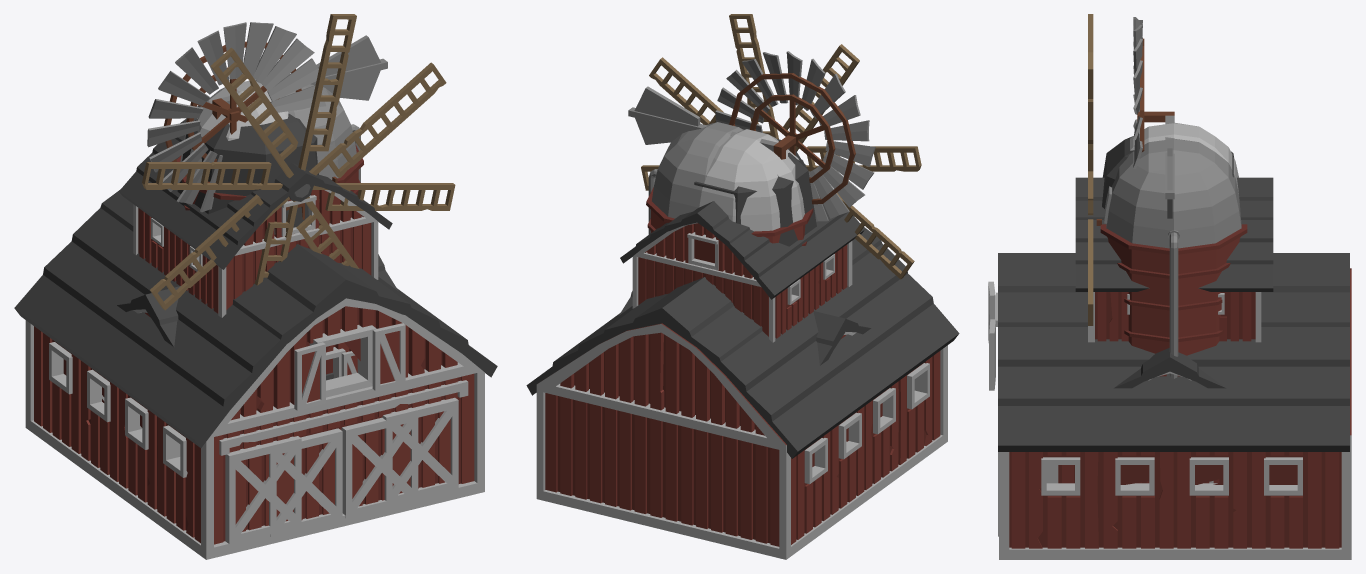
The model's file is farm.glb.
3 renders of one model, left to right at view 1: azimuth 30°, elevation 25°; view 2: azimuth 150°, elevation 25°; view 3: azimuth 270°, elevation 25°, orthographic. The views are drawn at different scales.
Parts seen in each view (by area): view 1: farm_Barn~White, farm_BigBarn~RoofBlack, farm_Barn~RoofBlack, farm_Barn~LightRed, farm_BigBarn~White, farm_TowerWindmill~LightBrown, farm_BigBarn~LightRed, farm_Windmill~Grey, farm_TowerWindmill~RoofBlack, farm_BigBarn~DarkRed, farm_Barn~DarkRed, farm_Silo_House~Grey (+4 smaller); view 2: farm_BigBarn~LightRed, farm_BigBarn~RoofBlack, farm_Barn~RoofBlack, farm_Barn~White, farm_BigBarn~White, farm_Windmill~Grey, farm_Barn~LightRed, farm_BigBarn~DarkRed, farm_TowerWindmill~LightBrown, farm_Silo~White, farm_Silo_House~Grey, farm_Windmill~Brown (+3 smaller); view 3: farm_Barn~RoofBlack, farm_Barn~LightRed, farm_BigBarn~RoofBlack, farm_Silo_House~Grey, farm_Barn~White, farm_Barn~DarkRed, farm_BigBarn~LightRed, farm_Silo_House~LightRed, farm_Silo_House~DarkRed, farm_Windmill~Grey, farm_TowerWindmill~LightBrown, farm_OpenBarn~RoofBlack (+5 smaller).
Part boxes in pixels (box(x1,y1,x2,y2)): farm_Barn~White: box(30, 298, 484, 559); farm_BigBarn~RoofBlack: box(15, 105, 493, 447); farm_Barn~RoofBlack: box(14, 189, 497, 447); farm_Barn~LightRed: box(34, 306, 474, 544); farm_BigBarn~White: box(25, 190, 477, 559); farm_TowerWindmill~LightBrown: box(142, 14, 455, 310); farm_BigBarn~LightRed: box(34, 190, 474, 537); farm_Windmill~Grey: box(147, 22, 387, 212); farm_TowerWindmill~RoofBlack: box(177, 113, 319, 234); farm_BigBarn~DarkRed: box(52, 190, 461, 530); farm_Barn~DarkRed: box(223, 307, 461, 541); farm_Silo_House~Grey: box(255, 73, 360, 182); farm_BigBarn~LightRed: box(545, 223, 940, 546); farm_BigBarn~RoofBlack: box(526, 160, 958, 458); farm_Barn~RoofBlack: box(529, 227, 959, 457); farm_Barn~White: box(536, 324, 943, 559); farm_BigBarn~White: box(536, 222, 947, 559); farm_Windmill~Grey: box(628, 51, 875, 221); farm_Barn~LightRed: box(556, 332, 940, 544); farm_BigBarn~DarkRed: box(557, 224, 926, 543); farm_TowerWindmill~LightBrown: box(641, 14, 921, 279); farm_Silo~White: box(699, 129, 804, 231); farm_Silo_House~Grey: box(648, 122, 743, 234); farm_Windmill~Brown: box(729, 73, 855, 204); farm_Barn~RoofBlack: box(998, 253, 1349, 451); farm_Barn~LightRed: box(1011, 452, 1339, 548); farm_BigBarn~RoofBlack: box(998, 177, 1349, 451); farm_Silo_House~Grey: box(1104, 138, 1241, 378); farm_Barn~White: box(996, 292, 1351, 559); farm_Barn~DarkRed: box(1009, 268, 1351, 547); farm_BigBarn~LightRed: box(1011, 292, 1338, 548); farm_Silo_House~LightRed: box(1107, 236, 1240, 355); farm_Silo_House~DarkRed: box(1100, 224, 1247, 341); farm_Windmill~Grey: box(1133, 17, 1174, 218); farm_TowerWindmill~LightBrown: box(1088, 14, 1093, 325); farm_OpenBarn~RoofBlack: box(1114, 348, 1225, 388).
Size of the model in its own units: 7.92 by 11.41 by 8.22.
